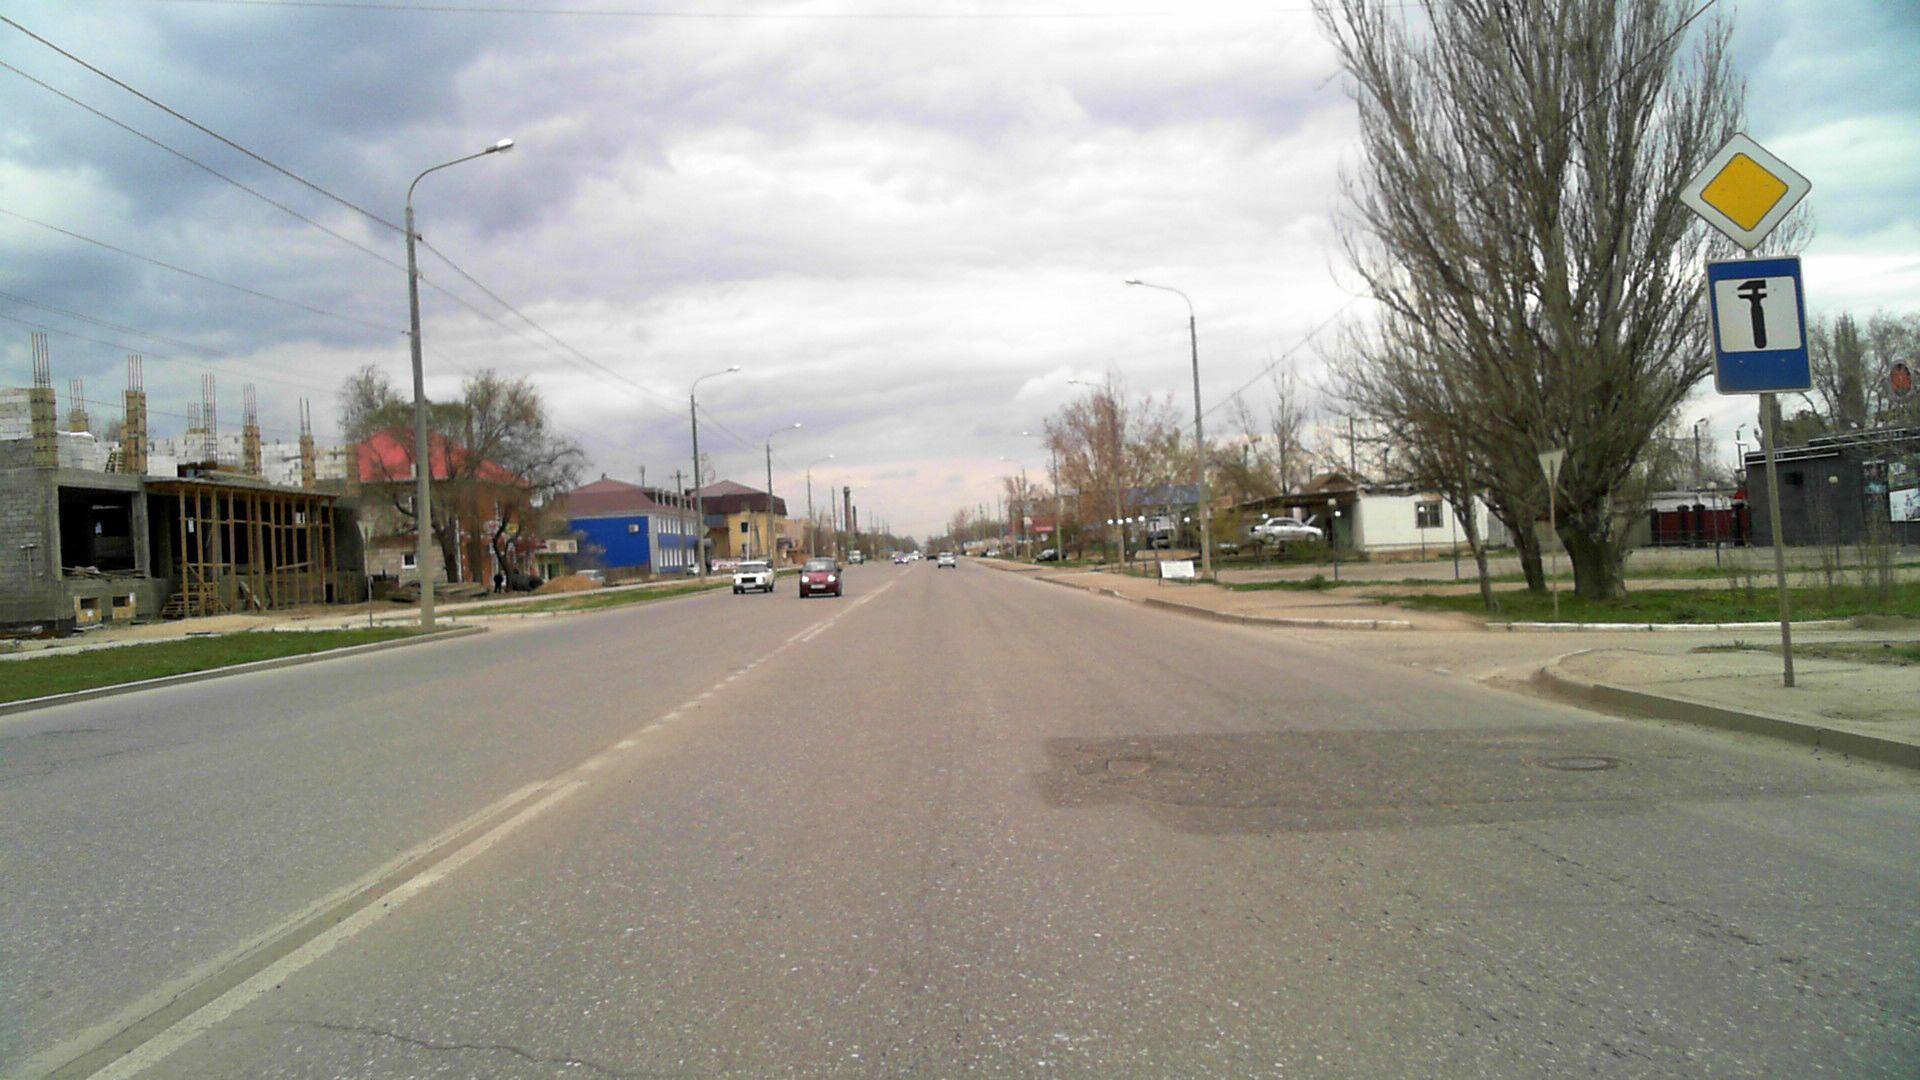2_1: (1678, 128, 1814, 254)
7_4: (1704, 251, 1808, 393)
